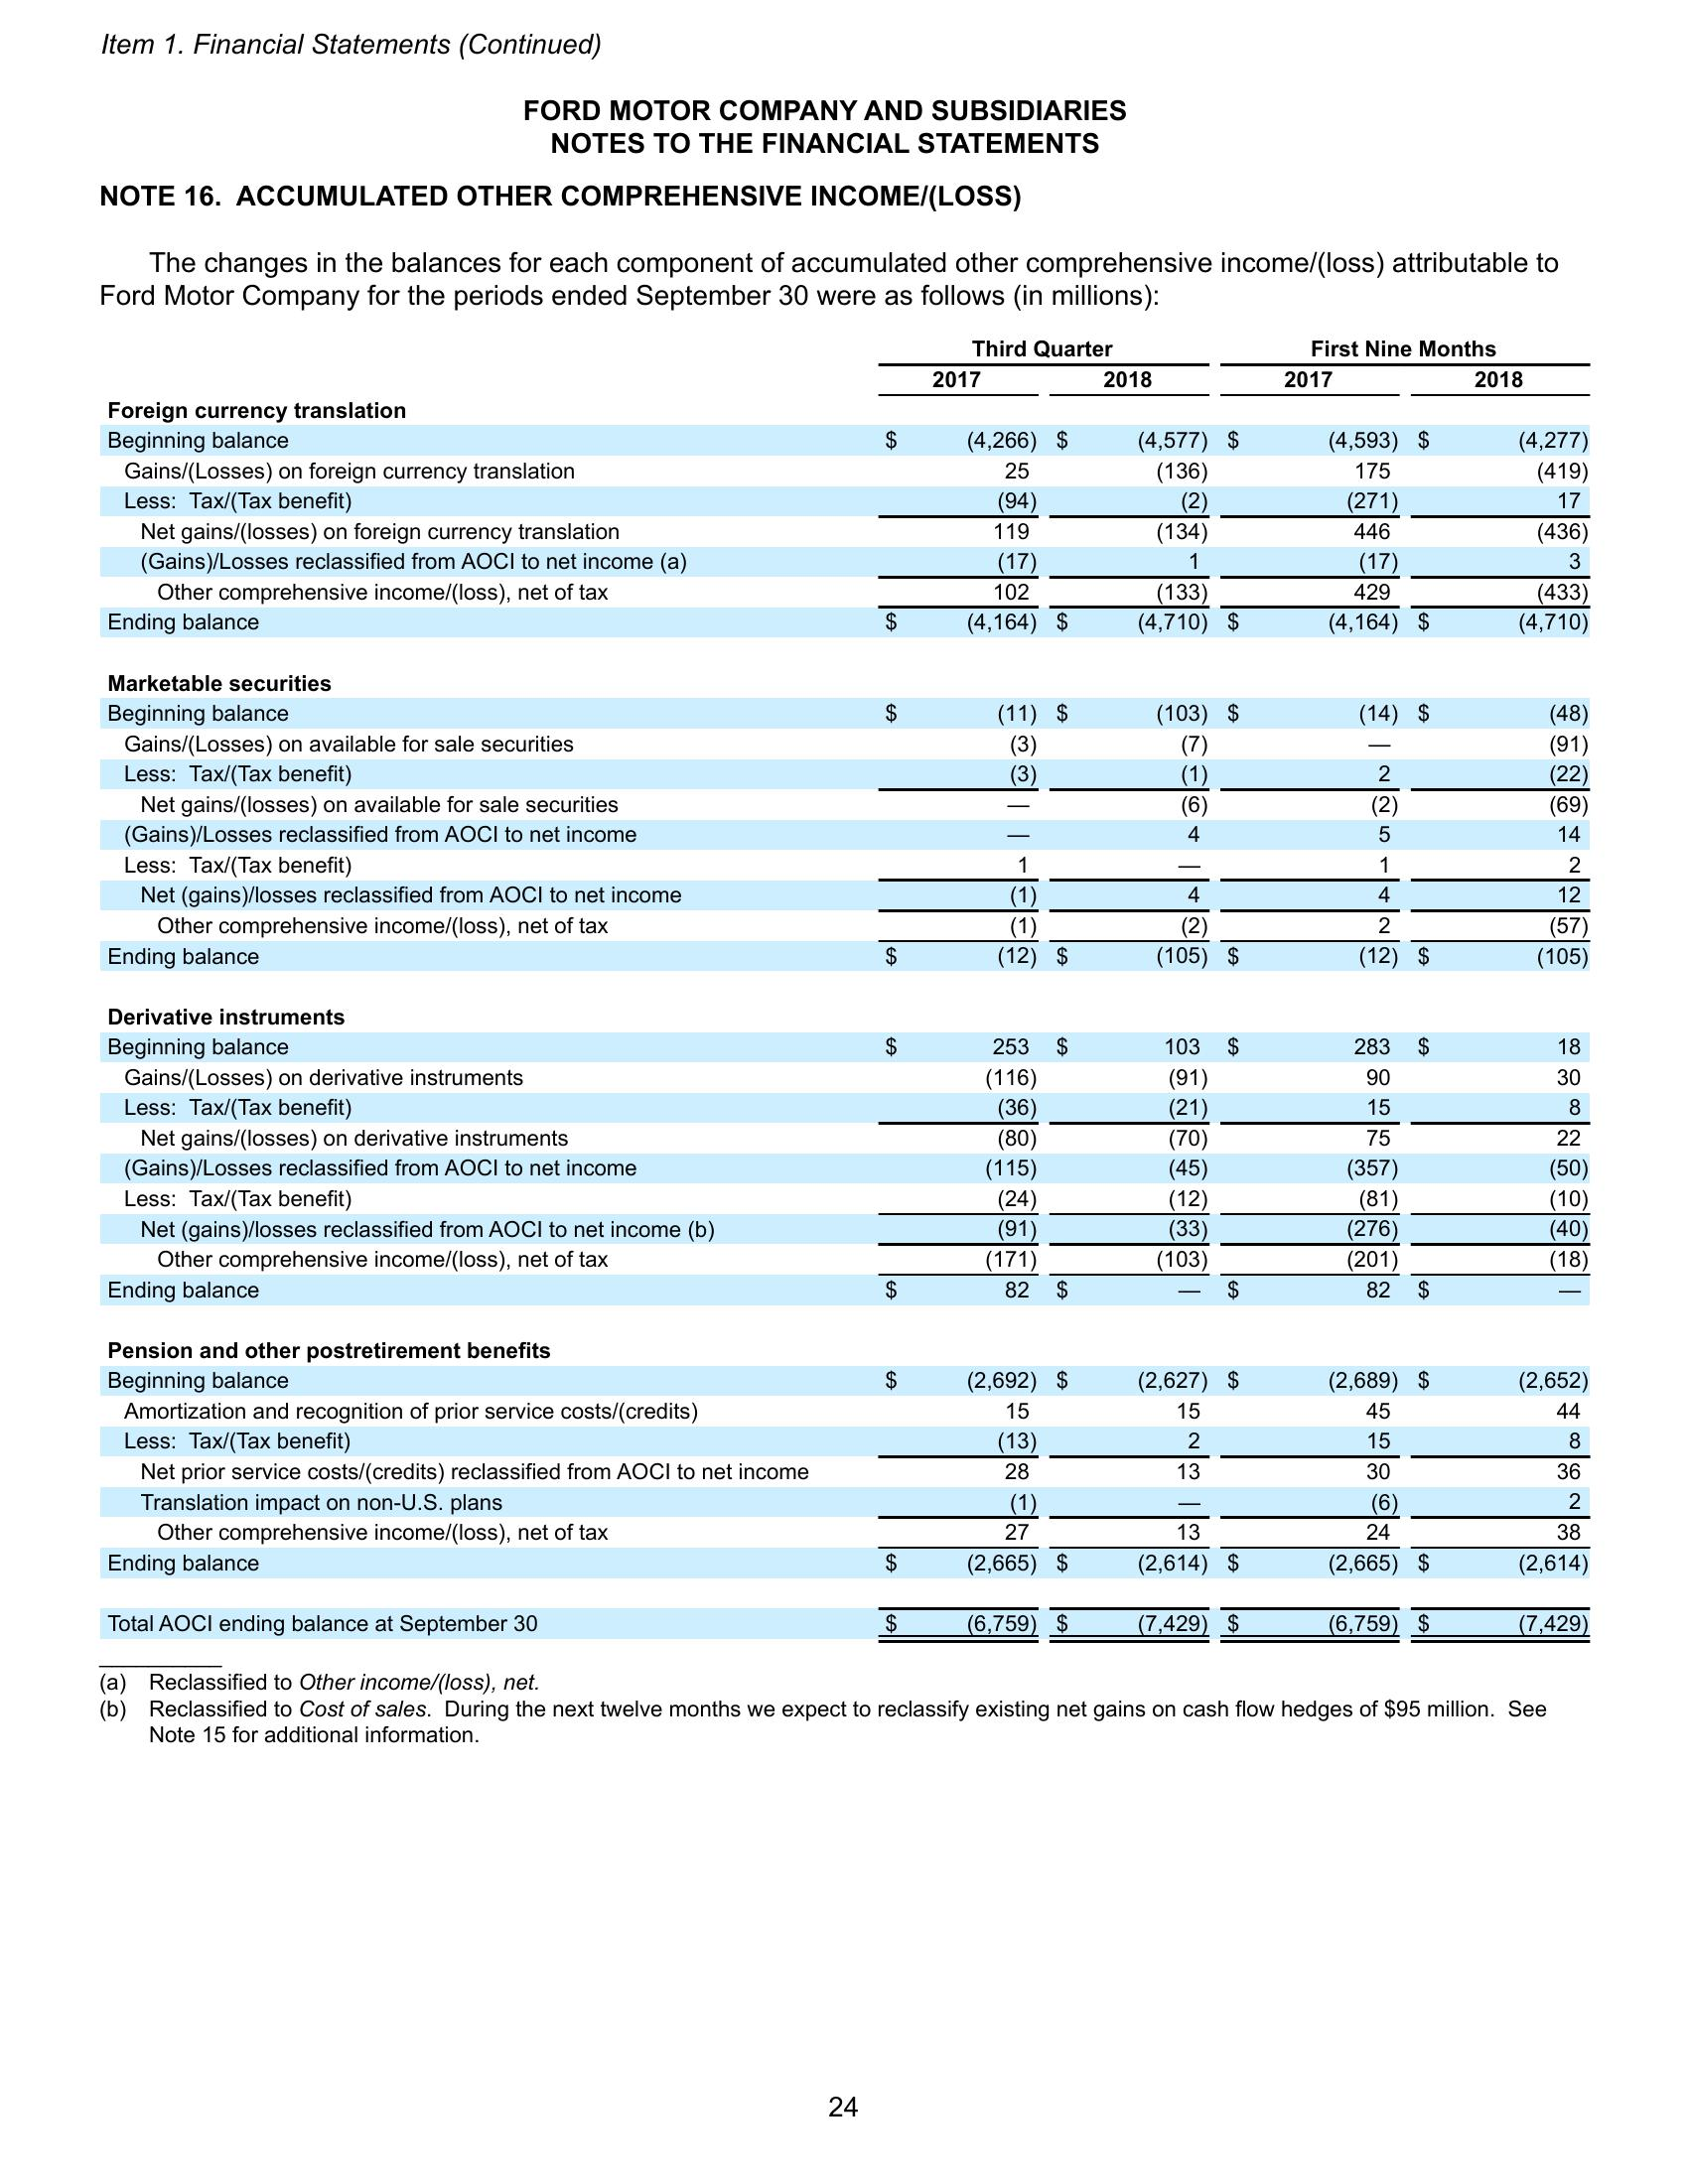table: (92, 330, 1601, 1645)
